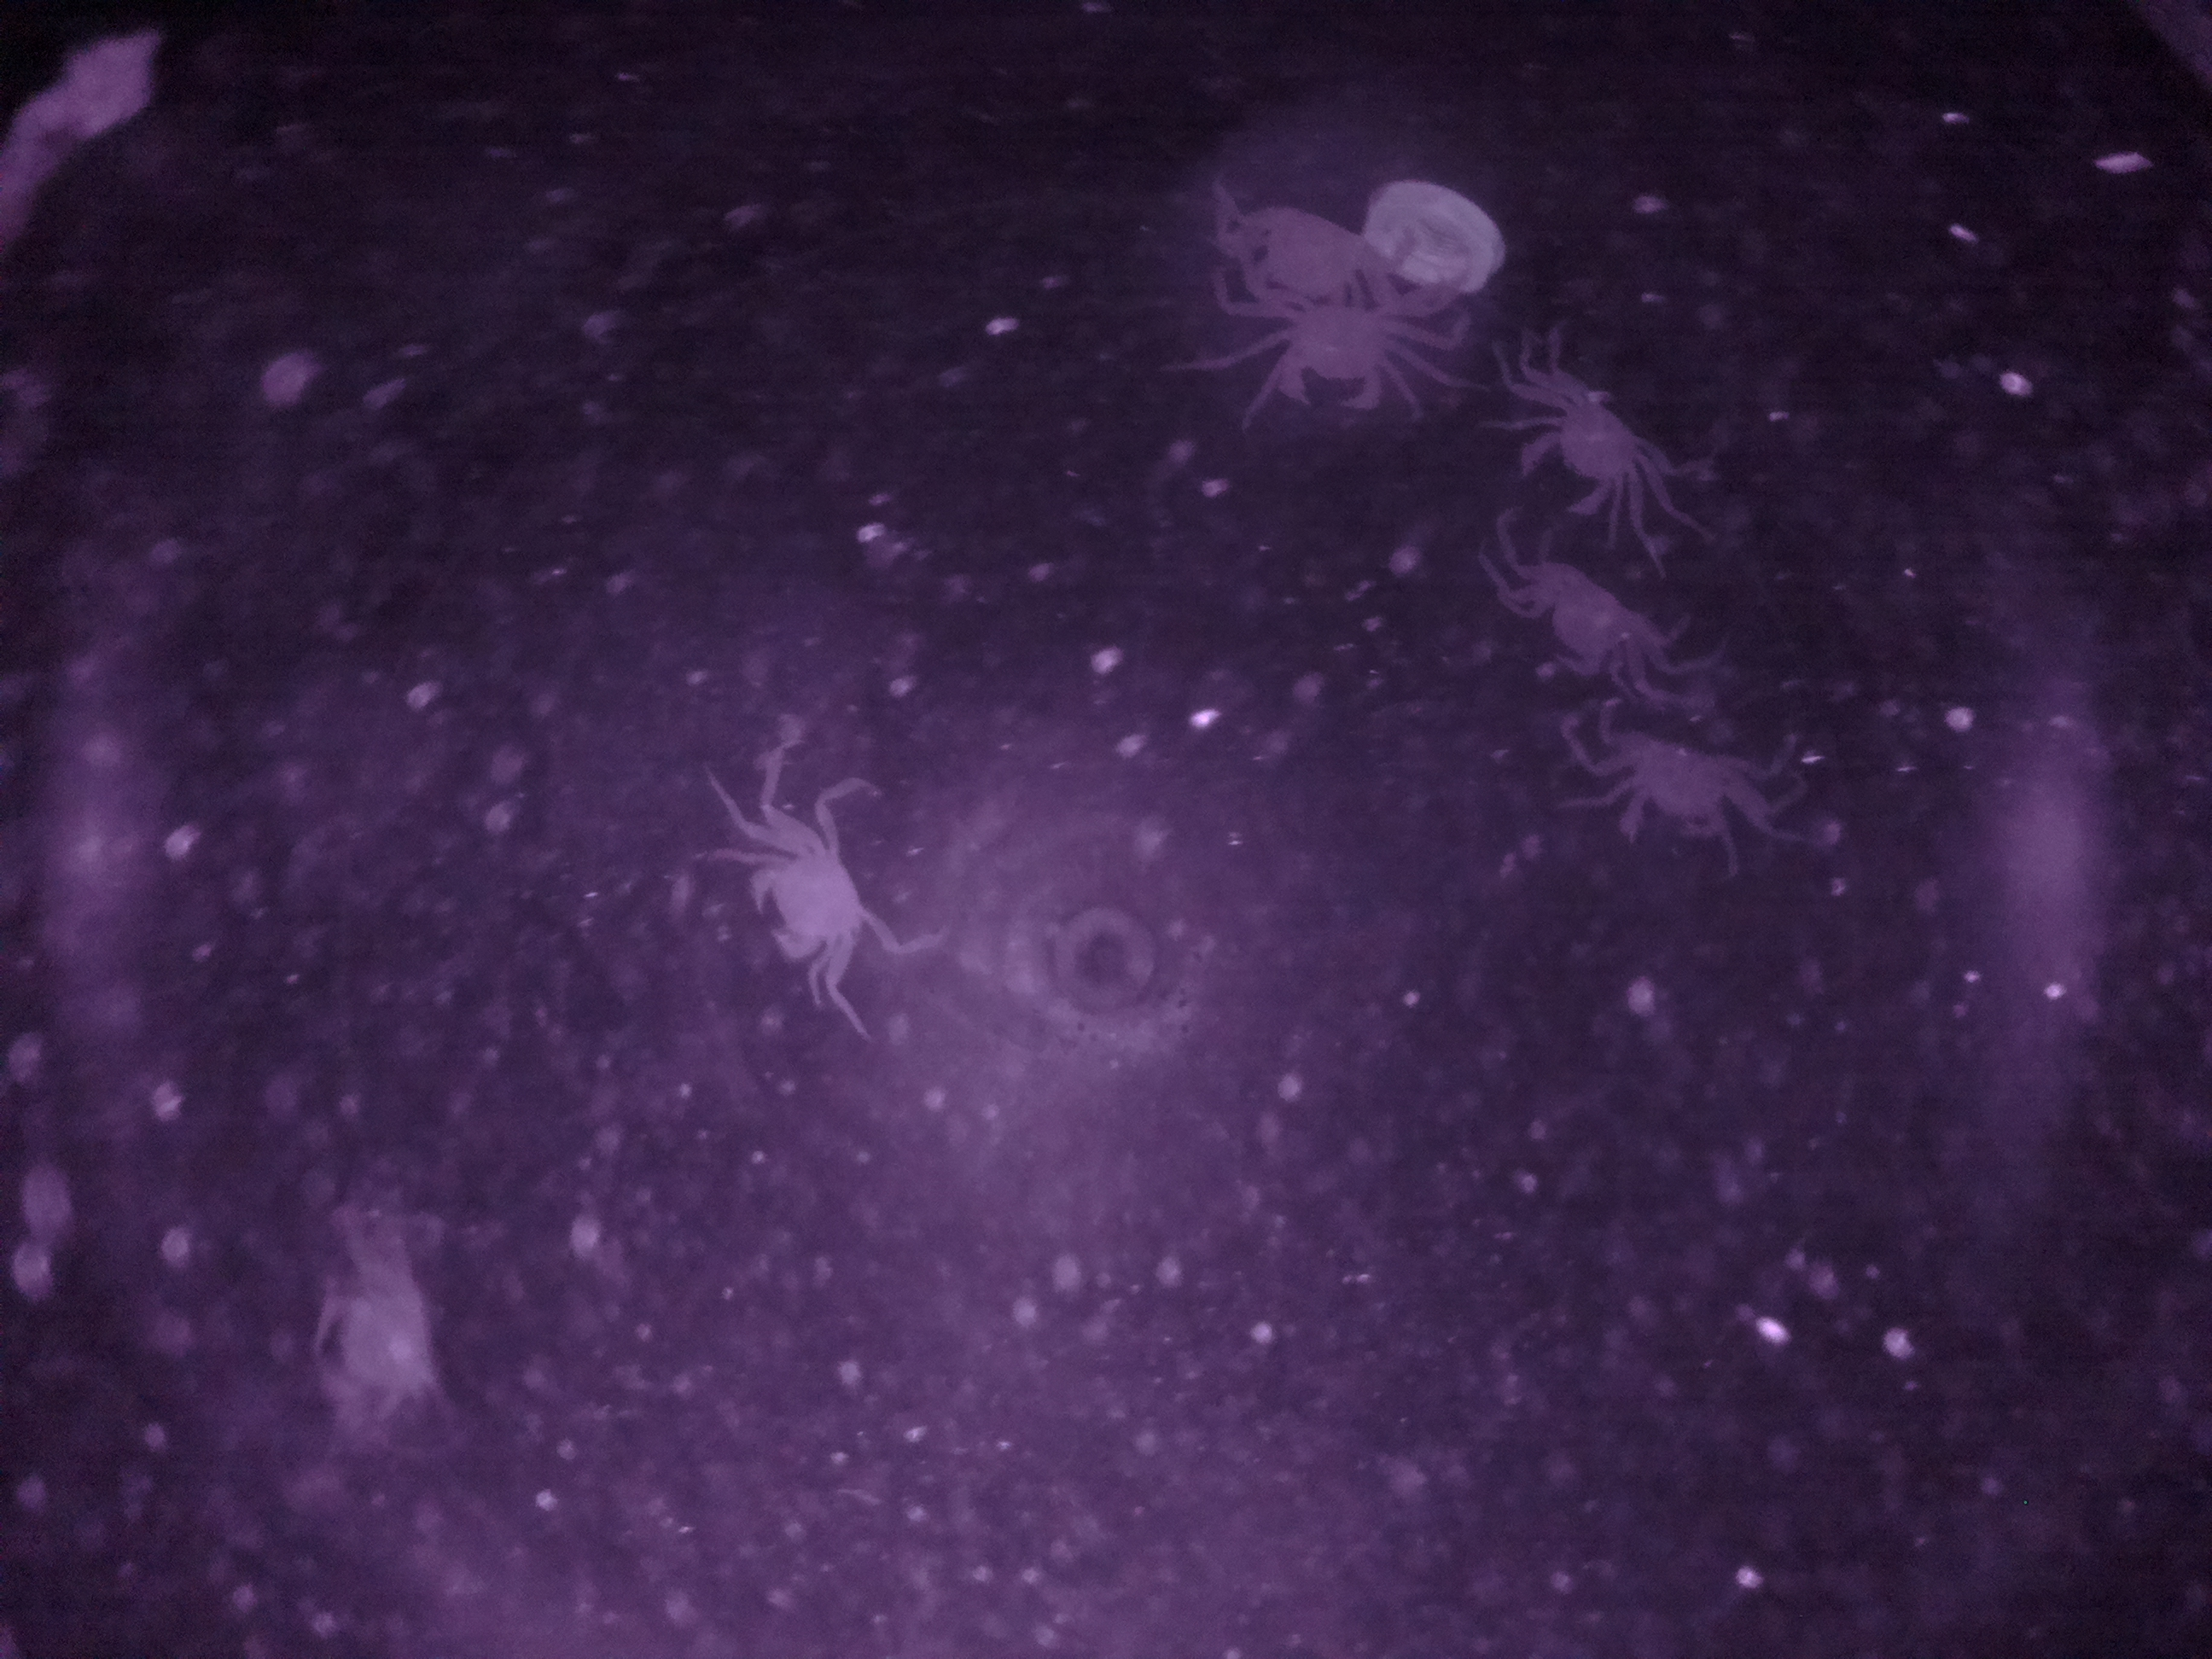Crab: (705, 751, 923, 1026), (1547, 680, 1808, 864), (1500, 359, 1688, 540)
